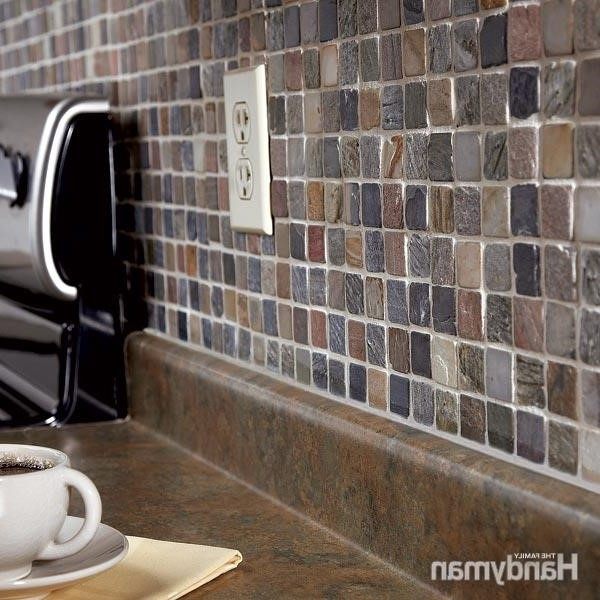outlet: (232, 104, 251, 144), (234, 163, 252, 197)
